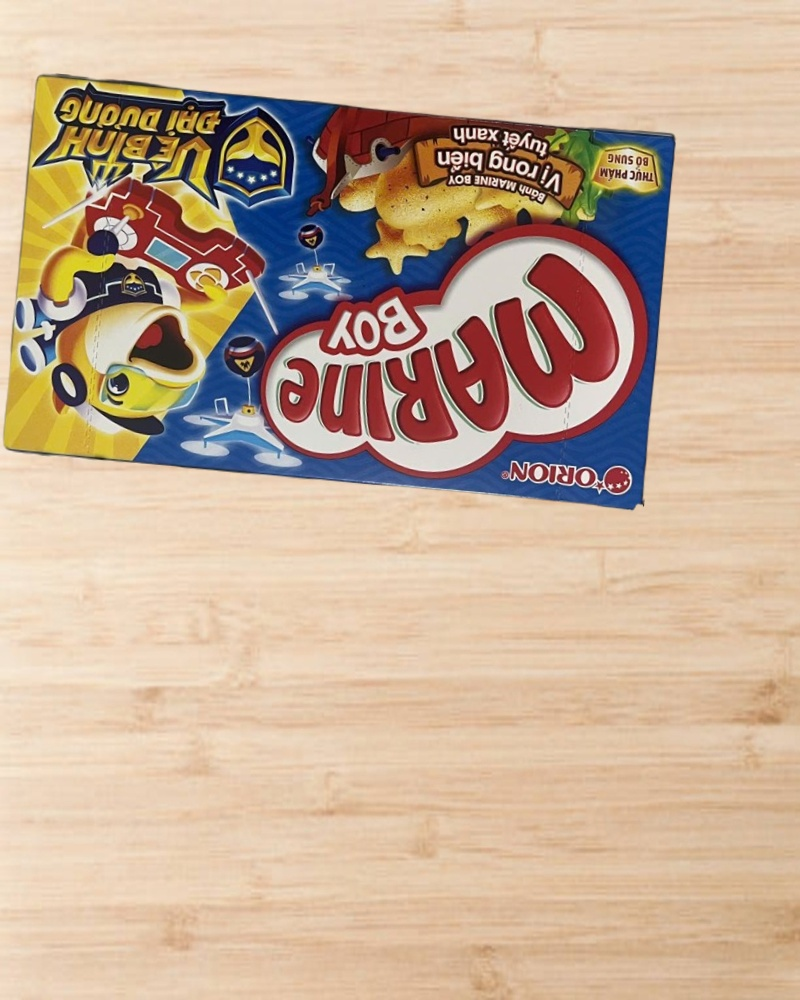Marine: (1, 74, 677, 511)
